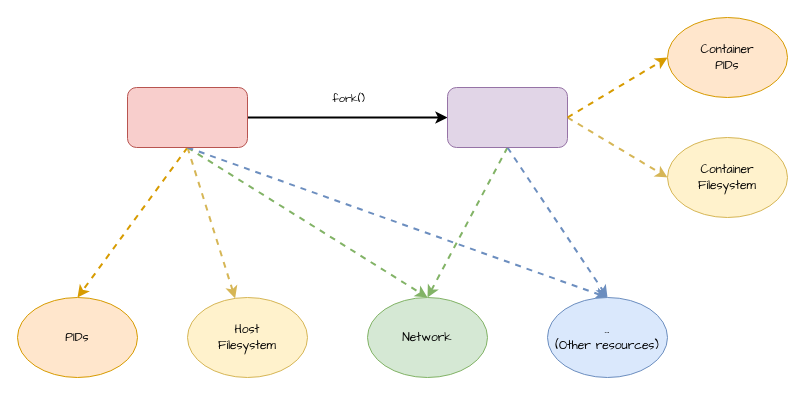
This 805x395 diagram has some shape labels left out. Each missing label, with the centre of its shape:
"Container" goes at point (507, 117).
"Container Agent" goes at point (187, 117).
